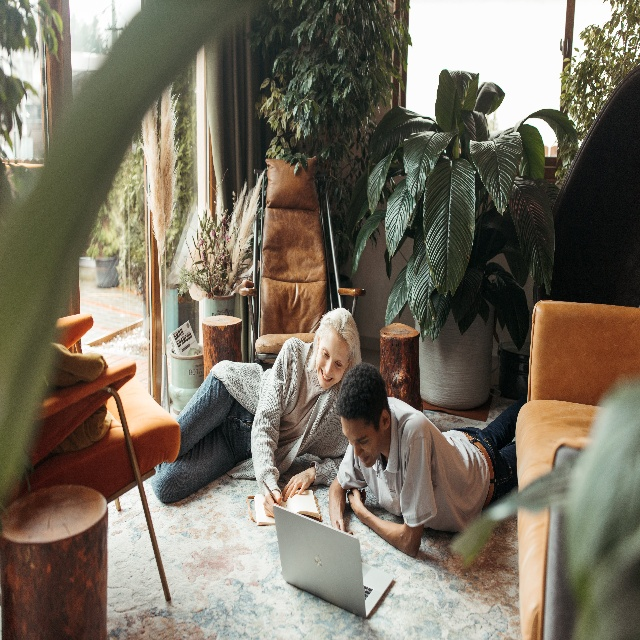Sin_guantes: (281, 467, 312, 502), (262, 490, 283, 519), (346, 487, 367, 516), (332, 519, 353, 535)
